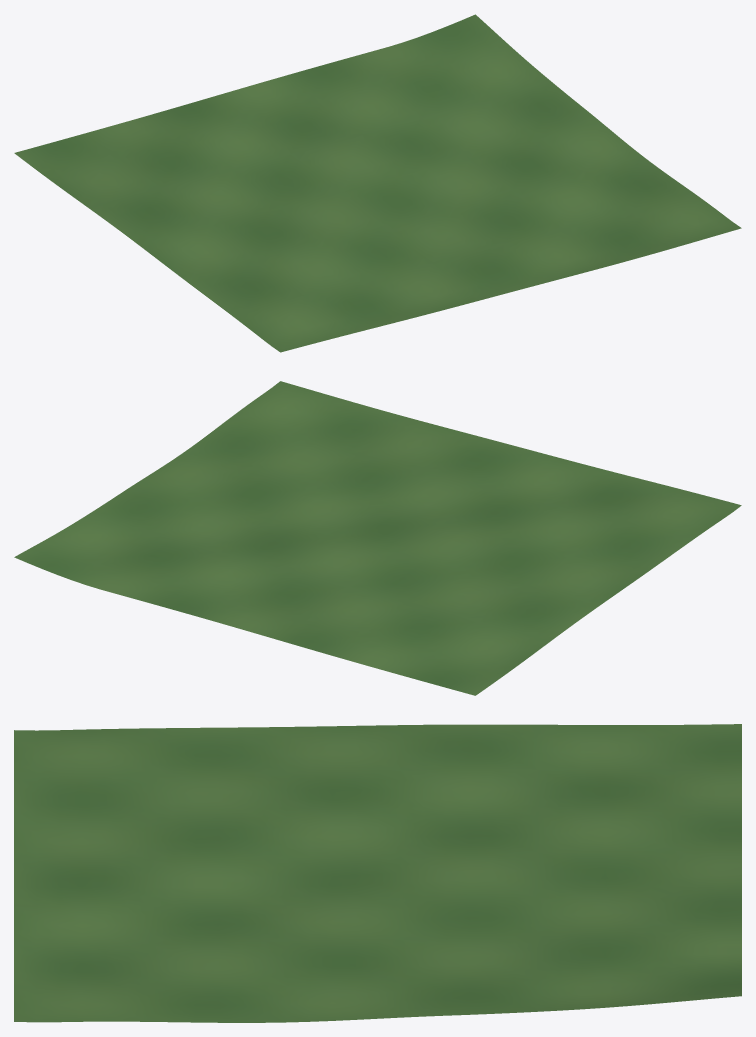
The model's file is chunk_9_11.glb.
The picture shows the model from 3 angles, top to bottom: view 1: azimuth 30°, elevation 25°; view 2: azimuth 150°, elevation 25°; view 3: azimuth 270°, elevation 25°; orthographic projection. The views are drawn at different scales.
Bounding box in the file's own units: 512 × 32.57 × 512.
